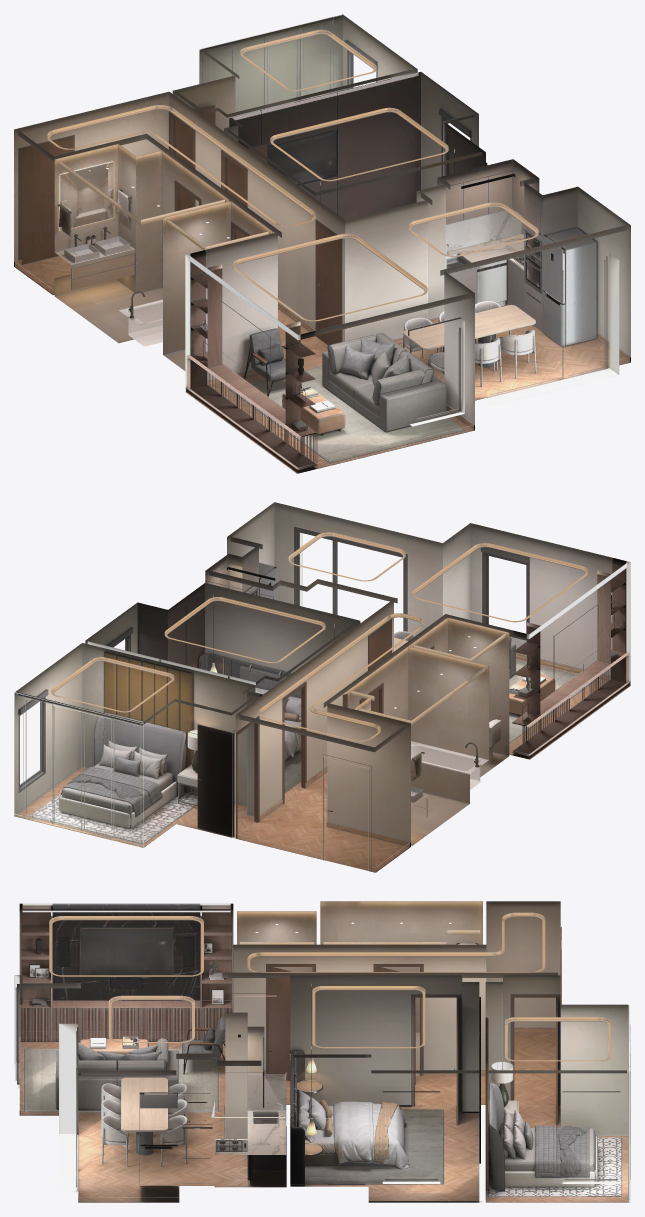
The model's file is flatApp.glb.
The picture shows the model from 3 angles, top to bottom: view 1: azimuth 30°, elevation 25°; view 2: azimuth 150°, elevation 25°; view 3: azimuth 270°, elevation 25°; orthographic projection. The views are drawn at different scales.
Visible parts, largest first — view 1: Object_12, Object_4, Object_10, Object_6; view 2: Object_10, Object_4, Object_12, Object_6, Object_8; view 3: Object_12, Object_10, Object_4, Object_6, Object_8.
Boxes of the visible parts, x1,y1,x2,y2 form: Object_12: (185, 159, 630, 473); Object_4: (14, 91, 344, 370); Object_10: (169, 14, 487, 238); Object_6: (18, 29, 626, 340); Object_10: (14, 583, 360, 847); Object_4: (235, 599, 509, 872); Object_12: (205, 502, 630, 759); Object_6: (18, 532, 627, 752); Object_8: (60, 687, 301, 816); Object_12: (14, 903, 286, 1202); Object_10: (290, 975, 630, 1202); Object_4: (230, 901, 561, 1104); Object_6: (22, 912, 626, 1075); Object_8: (297, 1090, 595, 1177).
Bounding box in the file's own units: 7.05 × 2.51 × 10.66.
Materials: 5 (5 with a texture image).
